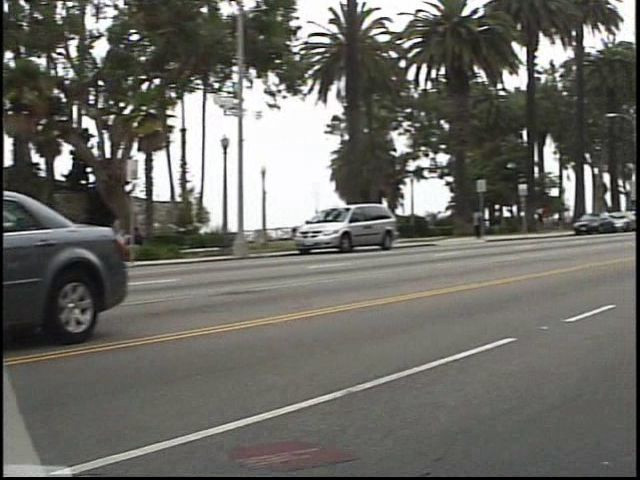person: (478, 201, 500, 241), (545, 200, 564, 235)
